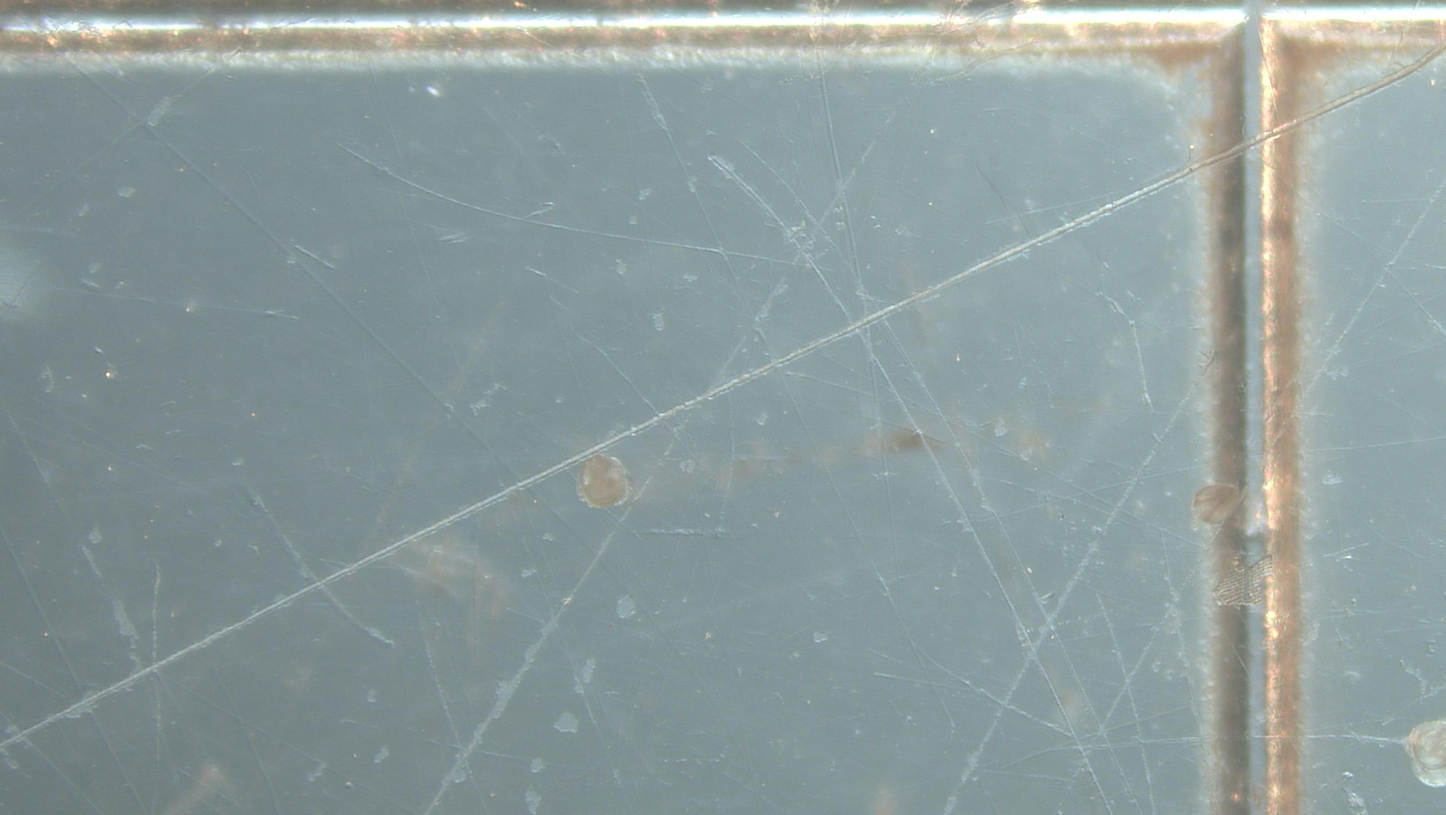live: (578, 454, 636, 508), (1192, 485, 1241, 526)
